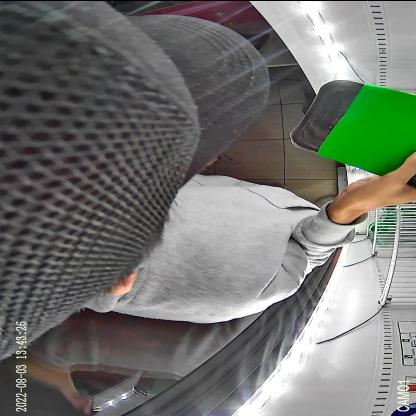green: (288, 78, 416, 186)
